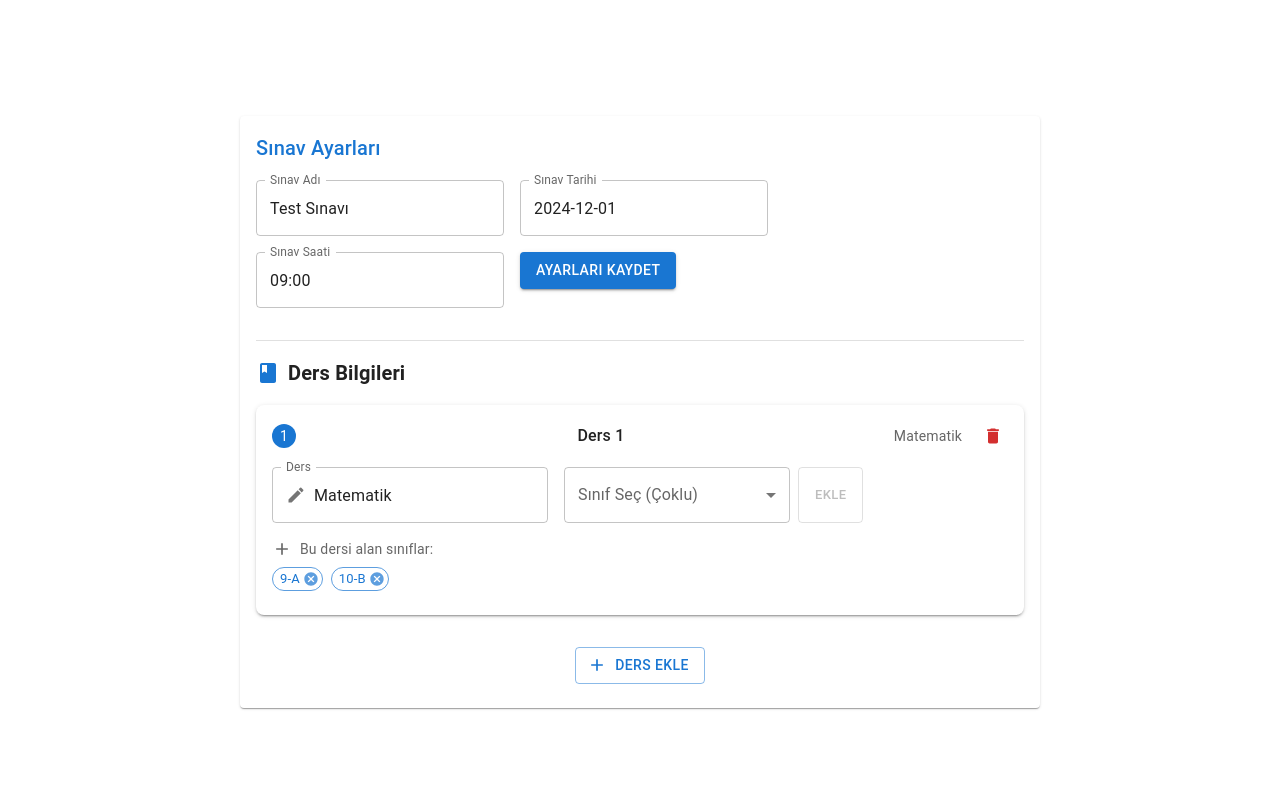
Test: AyarlarFormu Component › should handle course deletion
Click the button titled "Dersi Sil". click: (993, 436)
box: [978,421,1008,451]
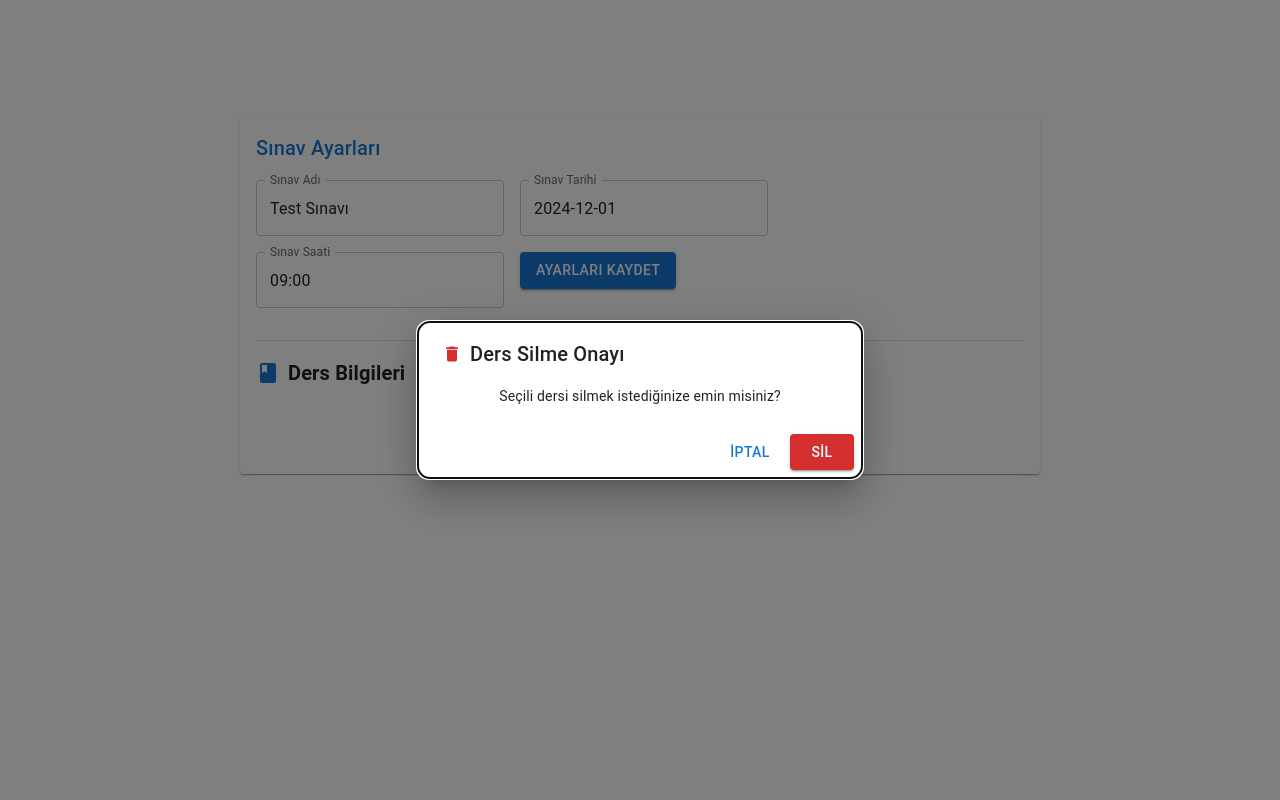
Expected: the heading "Ders Silme Onayı" is shown, [442,342,625,366]
